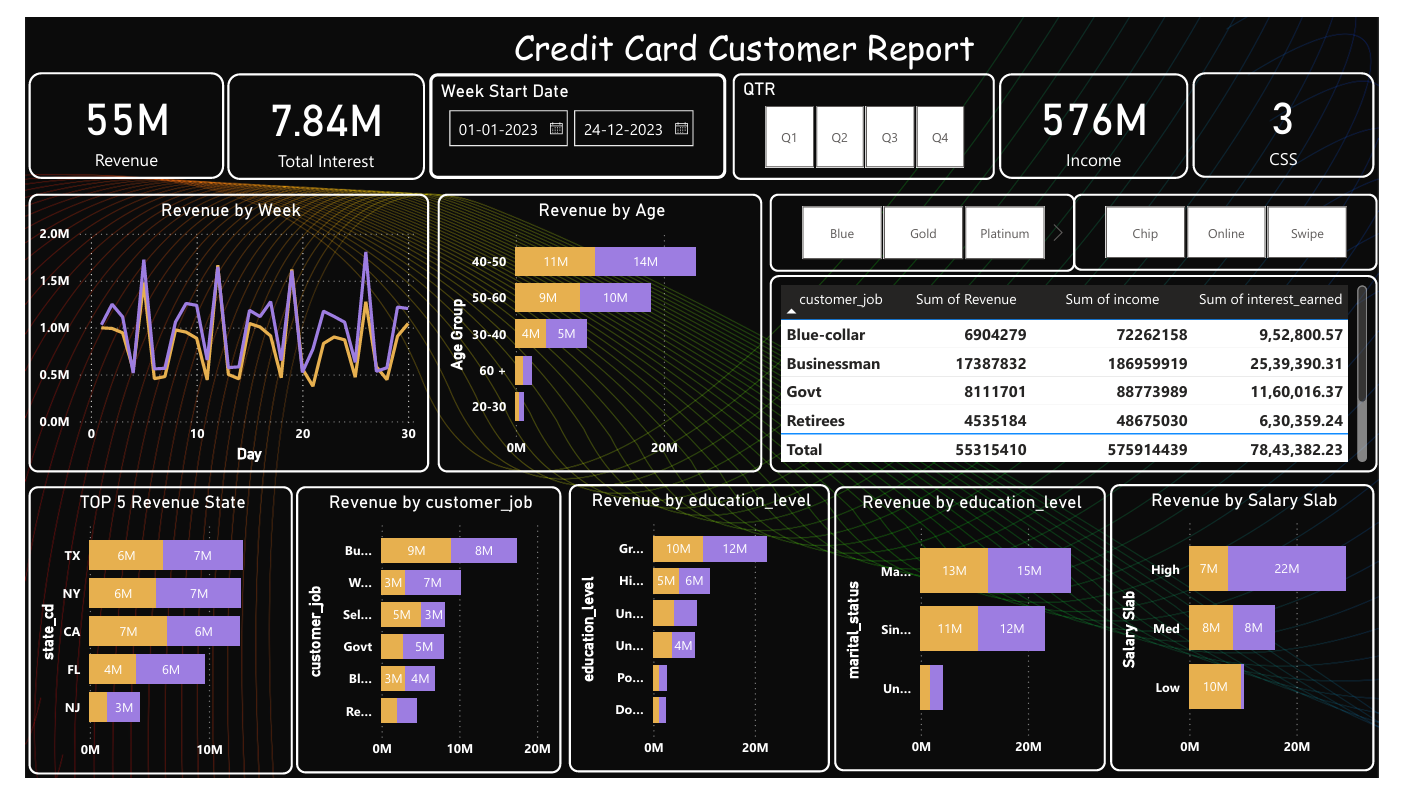

The dashboard page shown, as its layout file describes it:
{"tool":"powerbi","page":{"name":"Page 2","canvas":[1280,720],"ordinal":1},"visuals":[{"type":"lineChart","title":"Revenue by Week","fields":{"Series":["public cust_detail.gender"],"Y":["Sum(public cc_detail.Revenue)"],"Category":["public cc_detail.week_start_date.Variation.Date Hierarchy.Year","public cc_detail.week_start_date.Variation.Date Hierarchy.Month","public cc_detail.week_start_date.Variation.Date Hierarchy.Day"]},"box":[3.2,167,378.6,264],"z":0},{"type":"card","fields":{"Values":["Sum(public cc_detail.Revenue)"]},"box":[3.2,52.5,185,100.2],"z":1000},{"type":"card","fields":{"Values":["Sum(public cust_detail.income)"]},"box":[921,53.4,179,100],"z":2000},{"type":"card","fields":{"Values":["Sum(public cc_detail.interest_earned)"]},"box":[191.1,53.4,187,100.4],"z":3000},{"type":"card","fields":{"Values":["Avg(public cust_detail.cust_satisfaction_score)"]},"box":[1103.5,51.8,172,100.4],"z":4000},{"type":"slicer","title":"Week Start Date","fields":{"Values":["public cc_detail.week_start_date"]},"box":[382,53,281,100.4],"z":5000},{"type":"slicer","title":"QTR","fields":{"Values":["public cc_detail.qtr"]},"box":[668.7,53.4,248,100.4],"z":6000},{"type":"textbox","box":[457.1,0,534.1,59],"z":7000},{"type":"barChart","title":"Revenue by Salary Slab","fields":{"Y":["Sum(public cc_detail.Revenue)"],"Category":["public cust_detail.Salary Slab"],"Series":["public cust_detail.gender"]},"box":[1025.9,442.2,249.7,272],"z":8000},{"type":"barChart","title":"Revenue by Age ","fields":{"Y":["Sum(public cc_detail.Revenue)"],"Category":["public cust_detail.Age Group"],"Series":["public cust_detail.gender"]},"box":[389.9,167.1,307,263.8],"z":9000},{"type":"barChart","title":"Revenue by customer_job","fields":{"Y":["Sum(public cc_detail.Revenue)"],"Category":["public cust_detail.customer_job"],"Series":["public cust_detail.gender"]},"box":[256.1,443.8,251.3,272],"z":10000},{"type":"barChart","title":"Revenue by education_level","fields":{"Y":["Sum(public cc_detail.Revenue)"],"Category":["public cust_detail.education_level"],"Series":["public cust_detail.gender"]},"box":[513.8,442.2,247,273],"z":11000},{"type":"barChart","title":"TOP 5 Revenue State","fields":{"Y":["Sum(public cc_detail.Revenue)"],"Category":["public cust_detail.state_cd"],"Series":["public cust_detail.gender"]},"box":[3.2,443.8,250,273],"z":12000},{"type":"tableEx","fields":{"Values":["public cust_detail.customer_job","Sum(public cc_detail.Revenue)","Sum(public cust_detail.income)","Sum(public cc_detail.interest_earned)"]},"box":[704.4,244.1,575,186.8],"z":13000},{"type":"barChart","title":"Revenue by education_level","fields":{"Y":["Sum(public cc_detail.Revenue)"],"Category":["public cust_detail.marital_status"],"Series":["public cust_detail.gender"]},"box":[765.1,443.8,257,270],"z":14000},{"type":"slicer","title":"QTR","fields":{"Values":["public cc_detail.card_category"]},"box":[704.4,167.1,288.3,74],"z":15000},{"type":"slicer","title":"QTR","fields":{"Values":["public cc_detail.use_chip"]},"box":[991.1,167.1,288.3,73],"z":16000}]}

Visuals, with their boxes in screenshot pixels (x1, y1, x2, y2), scaled from the page's 1280x720 canvas onto the 1404x799 screenshot:
"Revenue by Week" lineChart: (x1=4, y1=185, x2=419, y2=478)
card - Sum(public cc_detail.Revenue): (x1=4, y1=58, x2=206, y2=169)
card - Sum(public cust_detail.income): (x1=1010, y1=59, x2=1207, y2=170)
card - Sum(public cc_detail.interest_earned): (x1=210, y1=59, x2=415, y2=171)
card - Avg(public cust_detail.cust_satisfaction_score): (x1=1210, y1=57, x2=1399, y2=169)
"Week Start Date" slicer: (x1=419, y1=59, x2=727, y2=170)
"QTR" slicer: (x1=733, y1=59, x2=1006, y2=171)
textbox: (x1=501, y1=0, x2=1087, y2=65)
"Revenue by Salary Slab" barChart: (x1=1125, y1=491, x2=1399, y2=793)
"Revenue by Age " barChart: (x1=428, y1=185, x2=764, y2=478)
"Revenue by customer_job" barChart: (x1=281, y1=492, x2=557, y2=794)
"Revenue by education_level" barChart: (x1=564, y1=491, x2=835, y2=794)
"TOP 5 Revenue State" barChart: (x1=4, y1=492, x2=278, y2=795)
tableEx - public cust_detail.customer_job x Sum(public cc_detail.Revenue): (x1=773, y1=271, x2=1403, y2=478)
"Revenue by education_level" barChart: (x1=839, y1=492, x2=1121, y2=792)
"QTR" slicer: (x1=773, y1=185, x2=1089, y2=268)
"QTR" slicer: (x1=1087, y1=185, x2=1403, y2=266)
